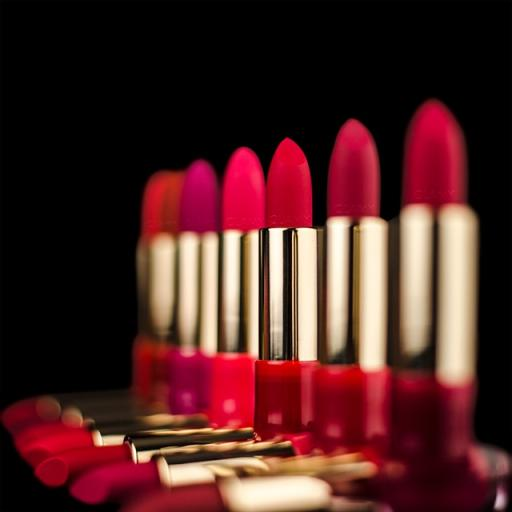lipstick: (378, 99, 490, 511), (314, 119, 391, 452), (255, 139, 321, 439), (208, 147, 265, 427), (69, 440, 295, 503), (165, 159, 219, 414), (35, 427, 253, 487), (132, 170, 183, 407), (20, 413, 207, 467), (120, 476, 331, 511), (2, 389, 155, 435)
